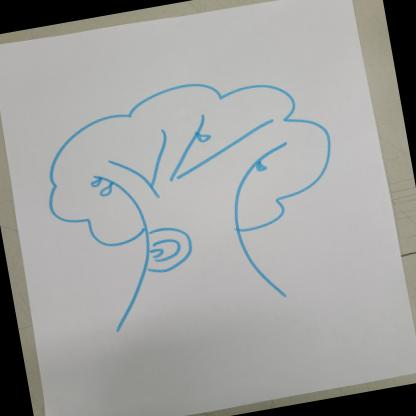branch_line: (76, 99, 297, 218)
crown_cloud: (28, 56, 348, 264)
knot: (140, 219, 198, 278)
trunk_reflex: (115, 224, 280, 316)
